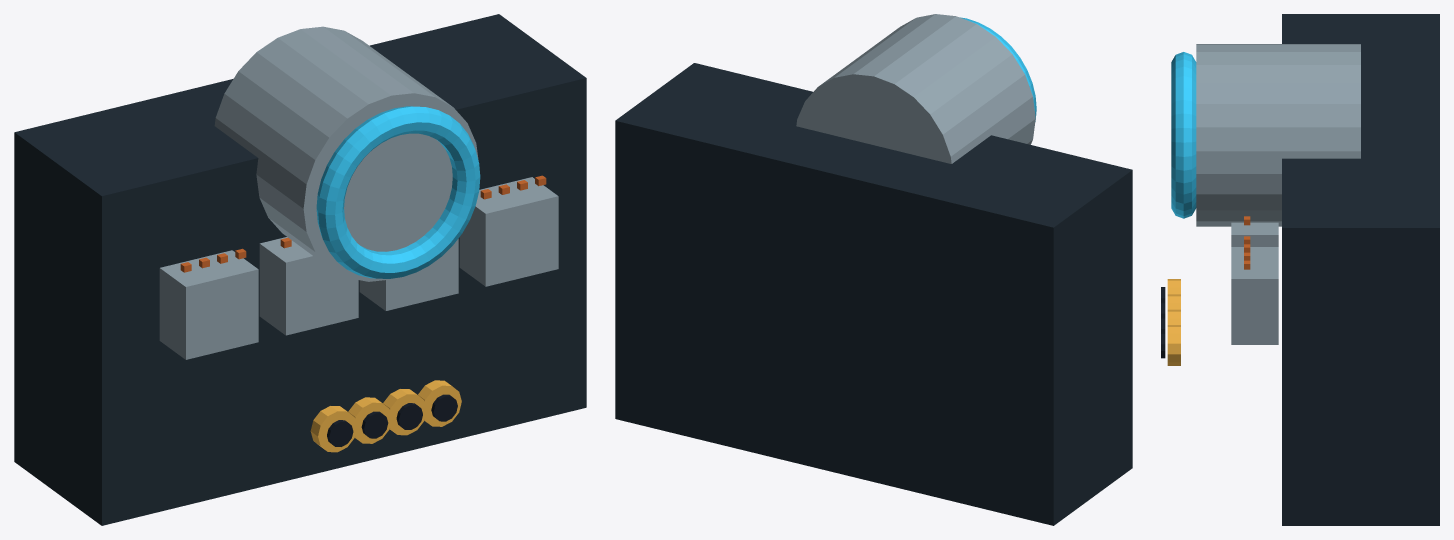
File: 07_L84_CoPackagedOpticalTransmitter.fbx
3 views of the same model, side by side, from view 1: azimuth 30°, elevation 25°; view 2: azimuth 150°, elevation 25°; view 3: azimuth 270°, elevation 25° (orthographic). The views are drawn at different scales.
Visible parts, largest first — view 1: L84_CoPackagedOpticalTransmitter, L84_CoPackagedOpticalTransmitter_Part_0005, L84_CoPackagedOpticalTransmitter_Part_0007, L84_CoPackagedOpticalTransmitter_Part_0011, L84_CoPackagedOpticalTransmitter_Part_0009; view 2: L84_CoPackagedOpticalTransmitter; view 3: L84_CoPackagedOpticalTransmitter, L84_CoPackagedOpticalTransmitter_Part_0011.
Part boxes in pixels (x1,y1,x2,y2): L84_CoPackagedOpticalTransmitter: [14, 14, 586, 525]; L84_CoPackagedOpticalTransmitter_Part_0005: [310, 406, 357, 452]; L84_CoPackagedOpticalTransmitter_Part_0007: [348, 397, 391, 443]; L84_CoPackagedOpticalTransmitter_Part_0011: [418, 380, 461, 426]; L84_CoPackagedOpticalTransmitter_Part_0009: [383, 389, 426, 435]; L84_CoPackagedOpticalTransmitter: [615, 14, 1132, 525]; L84_CoPackagedOpticalTransmitter: [1171, 14, 1439, 525]; L84_CoPackagedOpticalTransmitter_Part_0011: [1167, 325, 1180, 365].
Bounding box in the file's own units: 160 × 128 × 88.2.
